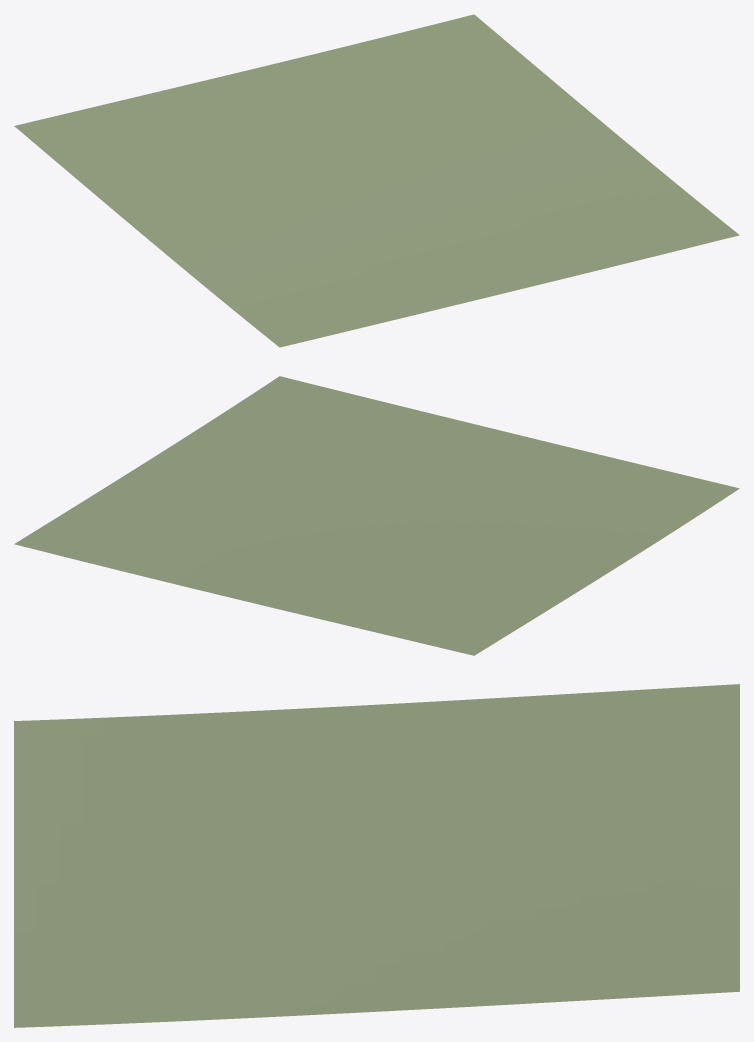
Rendered from desert-6-18.glb.
The picture shows the model from 3 angles, top to bottom: view 1: azimuth 30°, elevation 25°; view 2: azimuth 150°, elevation 25°; view 3: azimuth 270°, elevation 25°; orthographic projection. The views are drawn at different scales.
Visible parts, largest first — view 1: desert-6-18; view 2: desert-6-18; view 3: desert-6-18.
Boxes of the visible parts, x1,y1,x2,y2 form: desert-6-18: [14, 14, 739, 347]; desert-6-18: [14, 376, 739, 655]; desert-6-18: [14, 684, 739, 1027].
Size of the model in its own units: 512 by 29.34 by 512.
